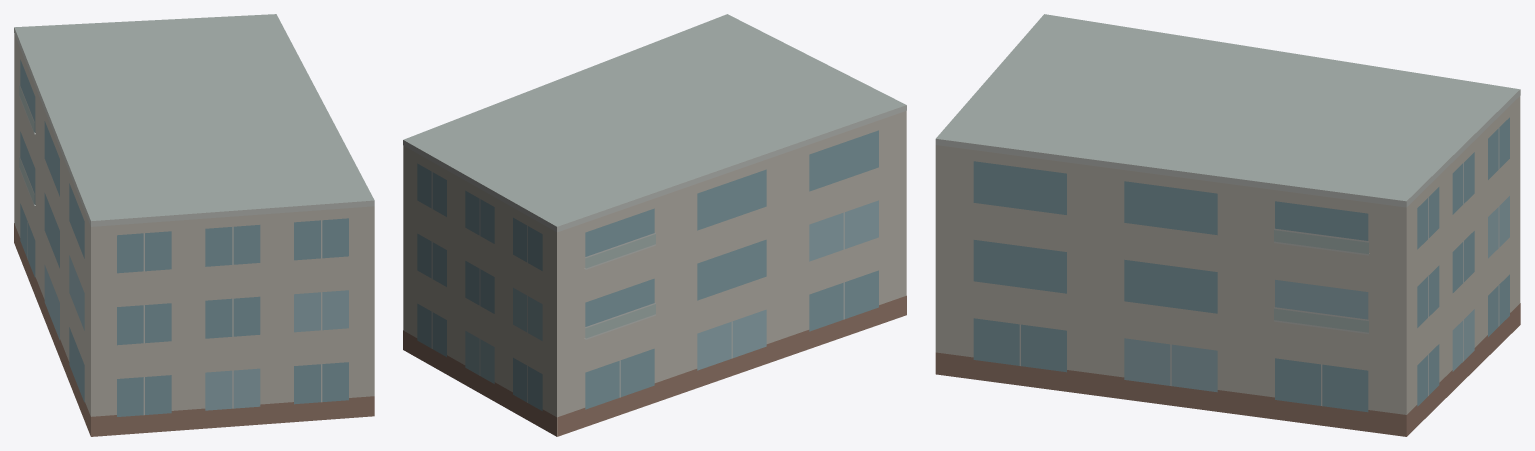
Rendered from survey-upis-32836580.glb.
The picture shows the model from 3 angles, left to right: view 1: azimuth 30°, elevation 25°; view 2: azimuth 150°, elevation 25°; view 3: azimuth 270°, elevation 25°; orthographic projection. The views are drawn at different scales.
Visible parts, largest first — view 1: survey-upis-32836580.tmp; view 2: survey-upis-32836580.tmp; view 3: survey-upis-32836580.tmp.
Boxes of the visible parts, x1=… form: survey-upis-32836580.tmp: x1=14, y1=14, x2=374, y2=436; survey-upis-32836580.tmp: x1=403, y1=14, x2=906, y2=436; survey-upis-32836580.tmp: x1=935, y1=14, x2=1520, y2=436.
Size of the model in its own units: 15.61 by 9.15 by 20.59.
